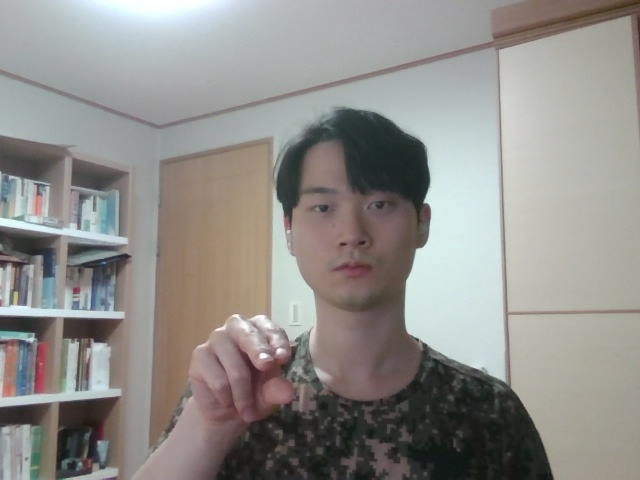no: (161, 301, 304, 436)
